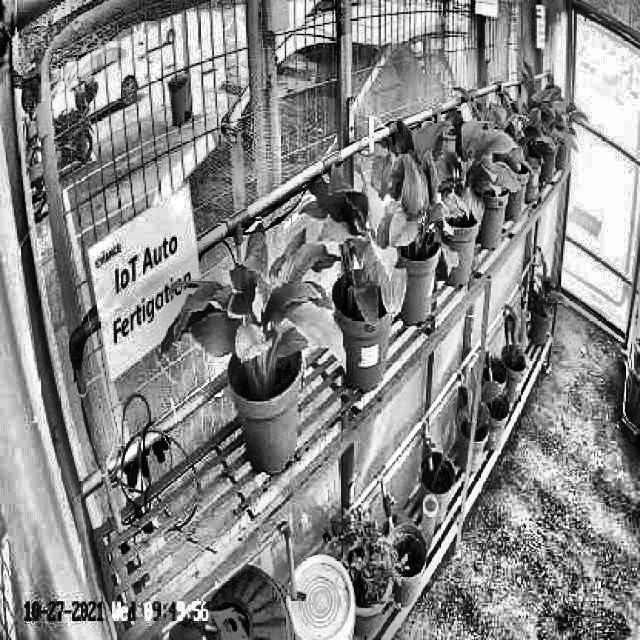plants: (160, 222, 348, 392), (302, 166, 408, 325), (366, 125, 460, 282), (414, 111, 522, 226)
